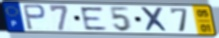5: (108, 6, 134, 33)
7: (48, 4, 70, 32), (170, 7, 191, 33)
E: (78, 6, 110, 31)
P: (21, 4, 48, 32)
X: (139, 7, 172, 33)
